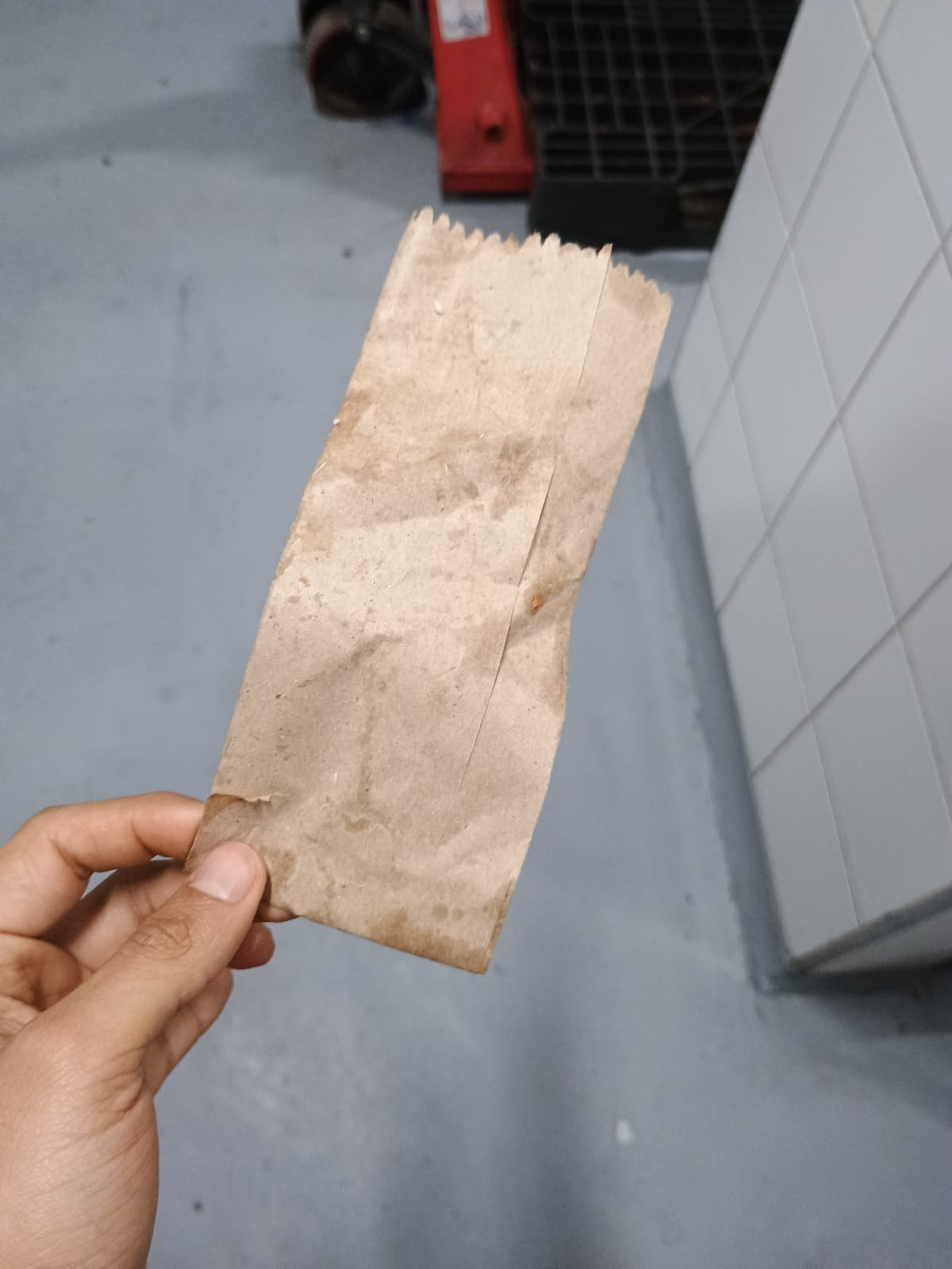Papel: (186, 211, 676, 979)
